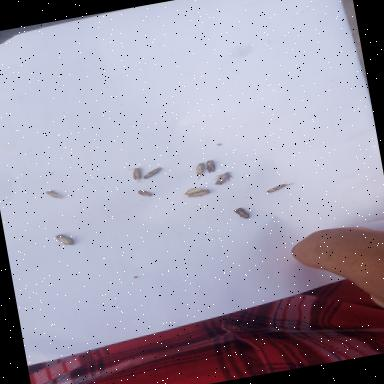pbw: (127, 163, 152, 185), (212, 170, 236, 186), (55, 232, 77, 248), (266, 182, 295, 194), (234, 206, 252, 222), (142, 166, 164, 178), (44, 188, 64, 201), (205, 158, 222, 173), (188, 188, 212, 198), (193, 162, 207, 175), (183, 187, 203, 196), (138, 188, 152, 198)
